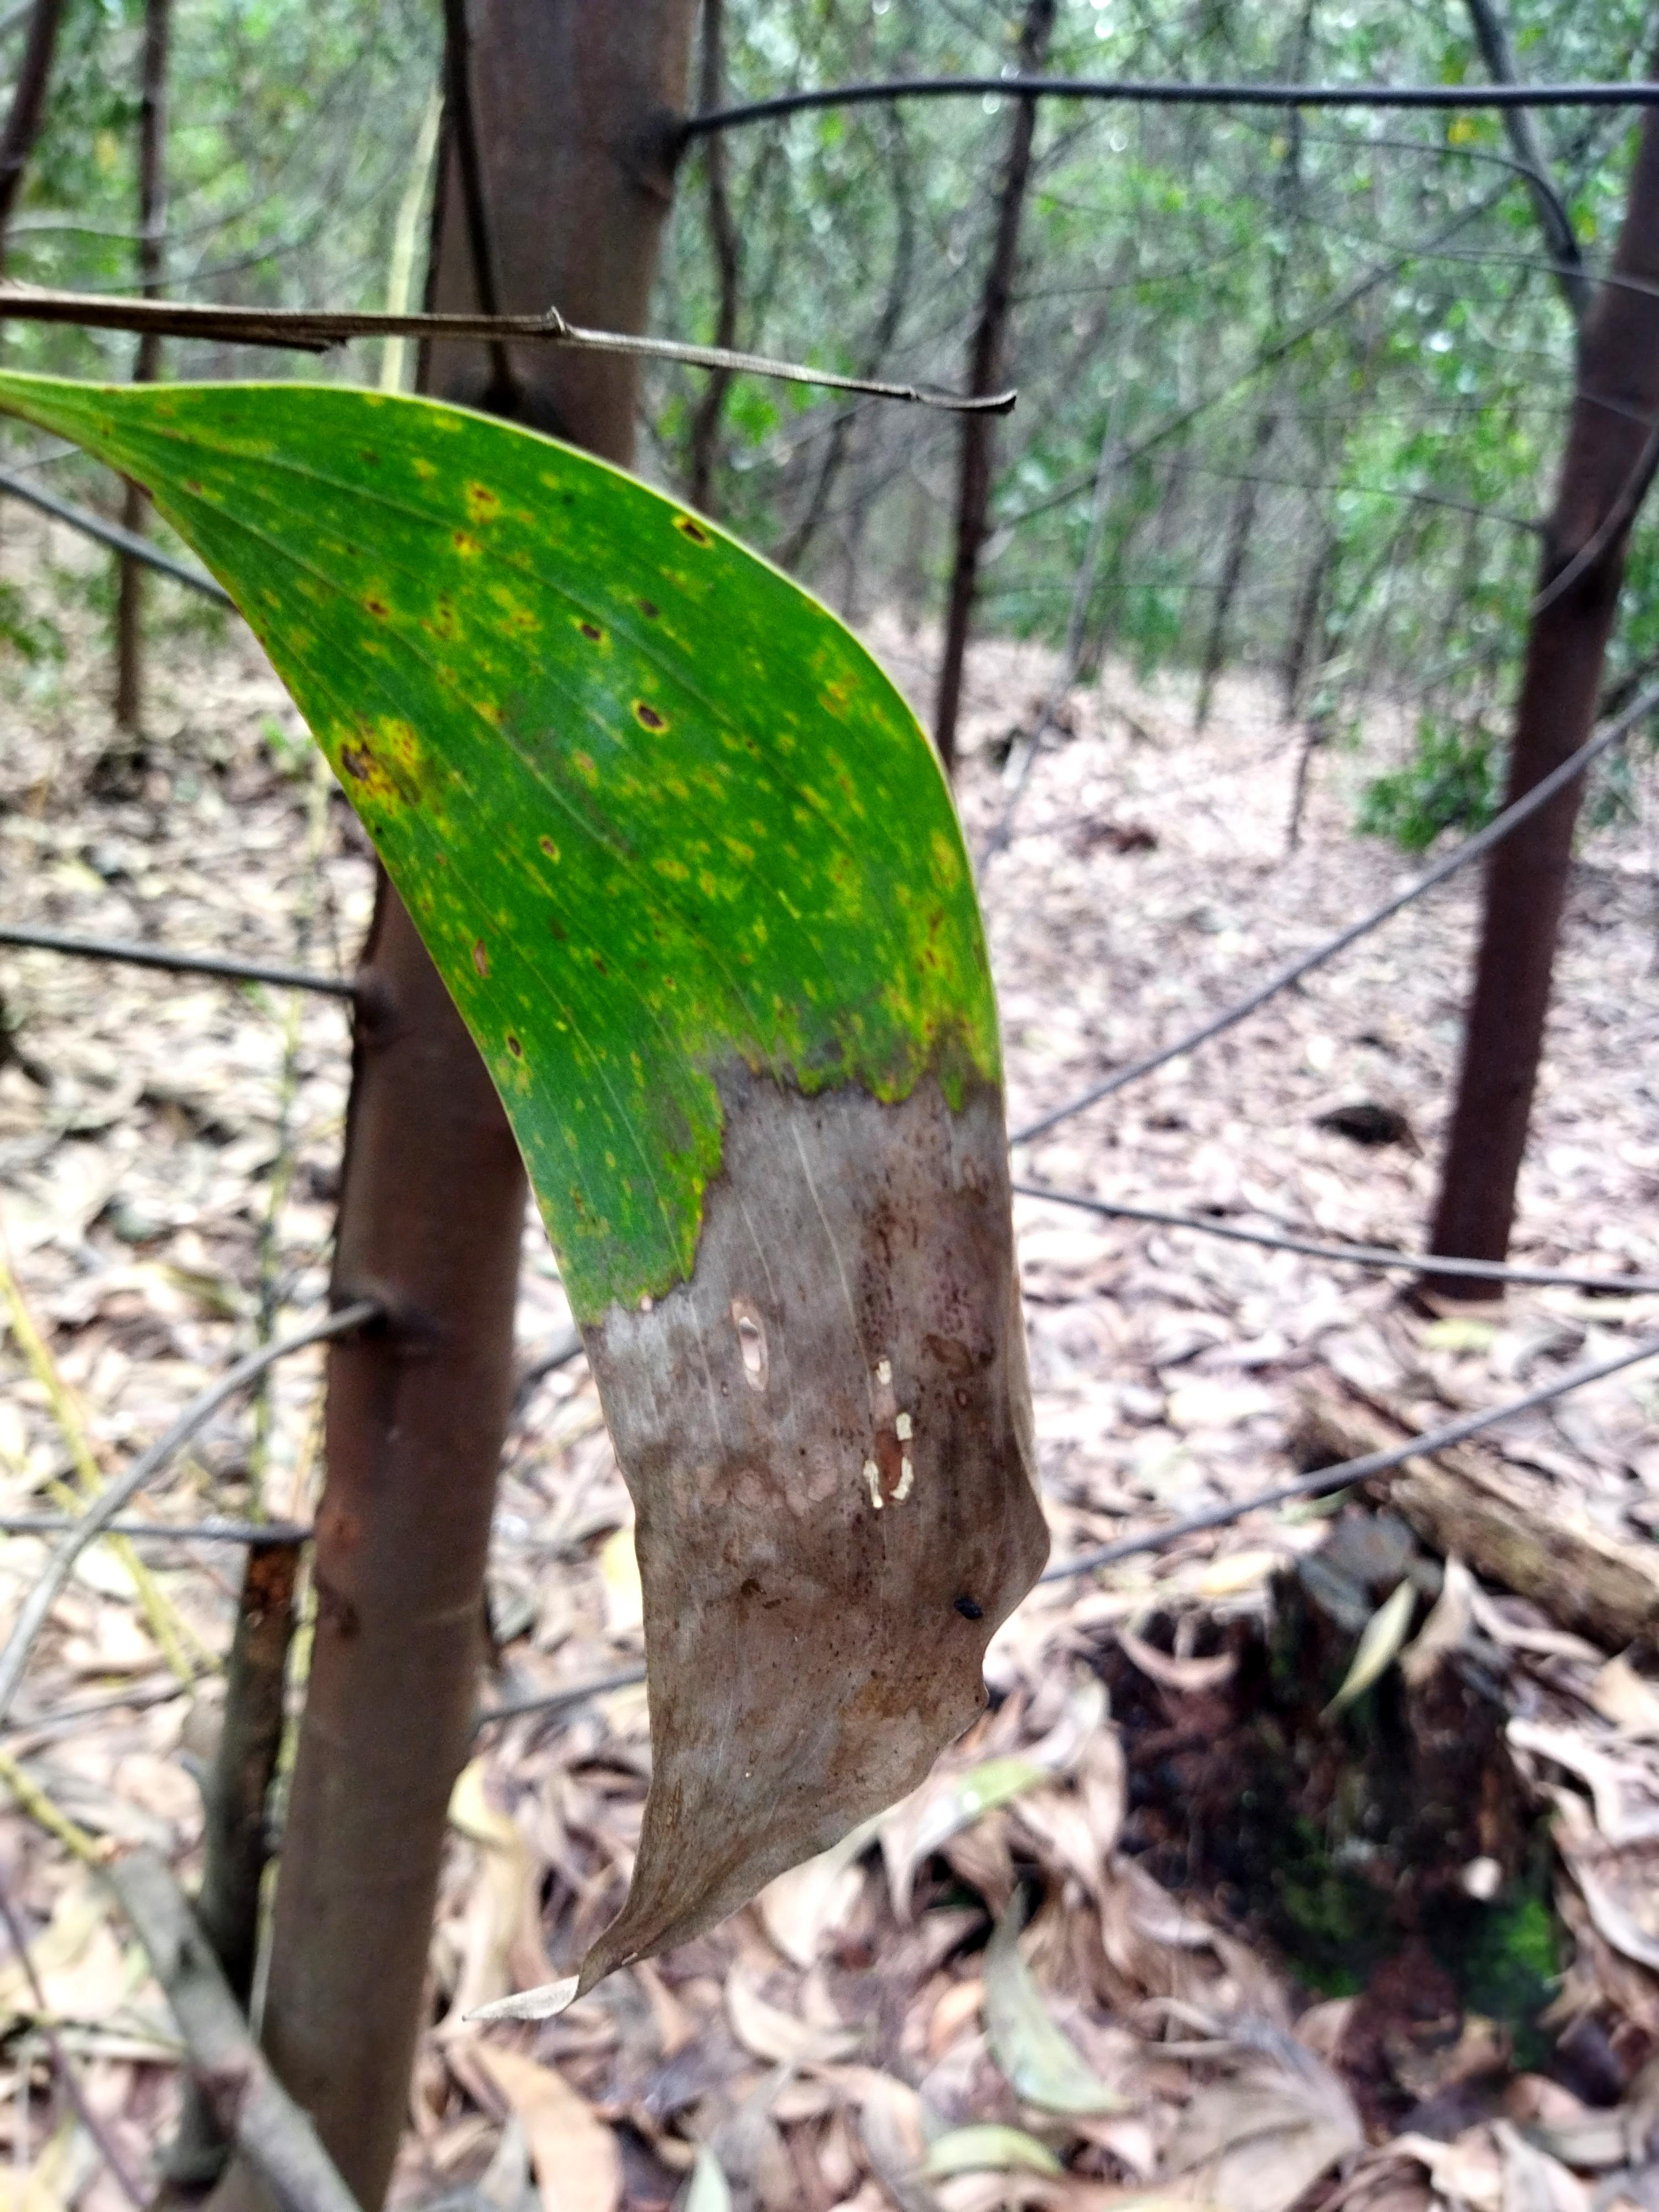Cylindrocladium: (587, 1157, 1058, 1996)
Xanthomonas: (84, 361, 1018, 1089)
